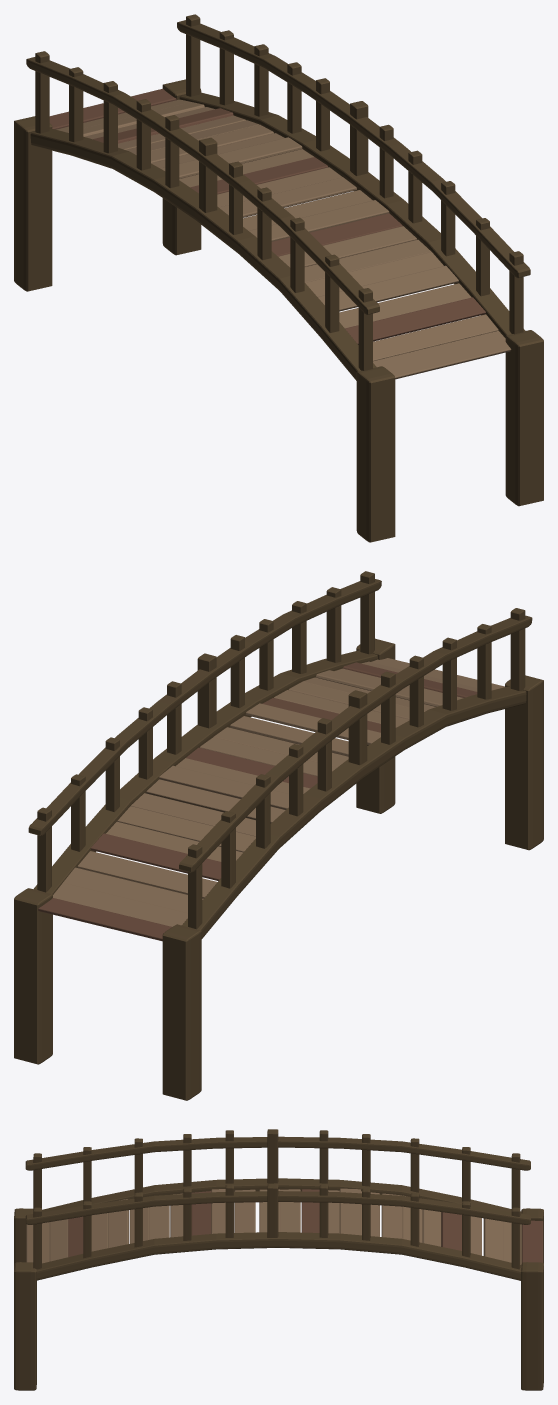
The model's file is Bridge.fbx.
3 views of the same model, one above another, from view 1: azimuth 30°, elevation 25°; view 2: azimuth 150°, elevation 25°; view 3: azimuth 270°, elevation 25° (orthographic). The views are drawn at different scales.
Visible parts, largest first — view 1: Plank4.025; view 2: Plank4.025; view 3: Plank4.025.
Part boxes in pixels (x1,y1,x2,y2): Plank4.025: (14, 14, 543, 542); Plank4.025: (14, 571, 543, 1100); Plank4.025: (14, 1129, 543, 1390).
Size of the model in its own units: 358 by 531 by 1268.
